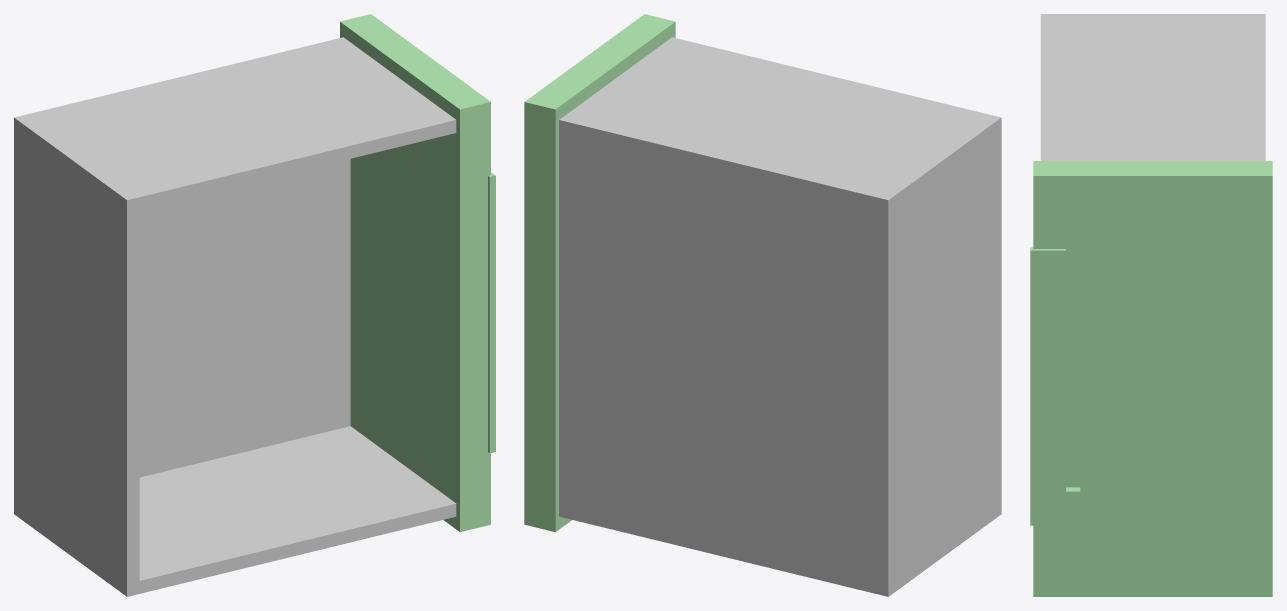
The model's file is ROOM73B2-TOSHIBA-CLACIO-REFRIGERATOR-BODYSET3_link_mesh.dae.
3 views of the same model, side by side, from view 1: azimuth 30°, elevation 25°; view 2: azimuth 150°, elevation 25°; view 3: azimuth 270°, elevation 25° (orthographic).
Visible parts, largest first — view 1: ROOM73B2-TOSHIBA-CLACIO-REFRIGERATOR-BODYSET3_link (×2); view 2: ROOM73B2-TOSHIBA-CLACIO-REFRIGERATOR-BODYSET3_link (×2); view 3: ROOM73B2-TOSHIBA-CLACIO-REFRIGERATOR-BODYSET3_link (×2).
Boxes of the visible parts, left/top/right/bottom form: ROOM73B2-TOSHIBA-CLACIO-REFRIGERATOR-BODYSET3_link (×2): left=14, top=14, right=495, bottom=596; ROOM73B2-TOSHIBA-CLACIO-REFRIGERATOR-BODYSET3_link (×2): left=524, top=14, right=1001, bottom=596; ROOM73B2-TOSHIBA-CLACIO-REFRIGERATOR-BODYSET3_link (×2): left=1030, top=14, right=1272, bottom=596.
Size of the model in its own units: 0.585 by 0.65 by 0.3395.
